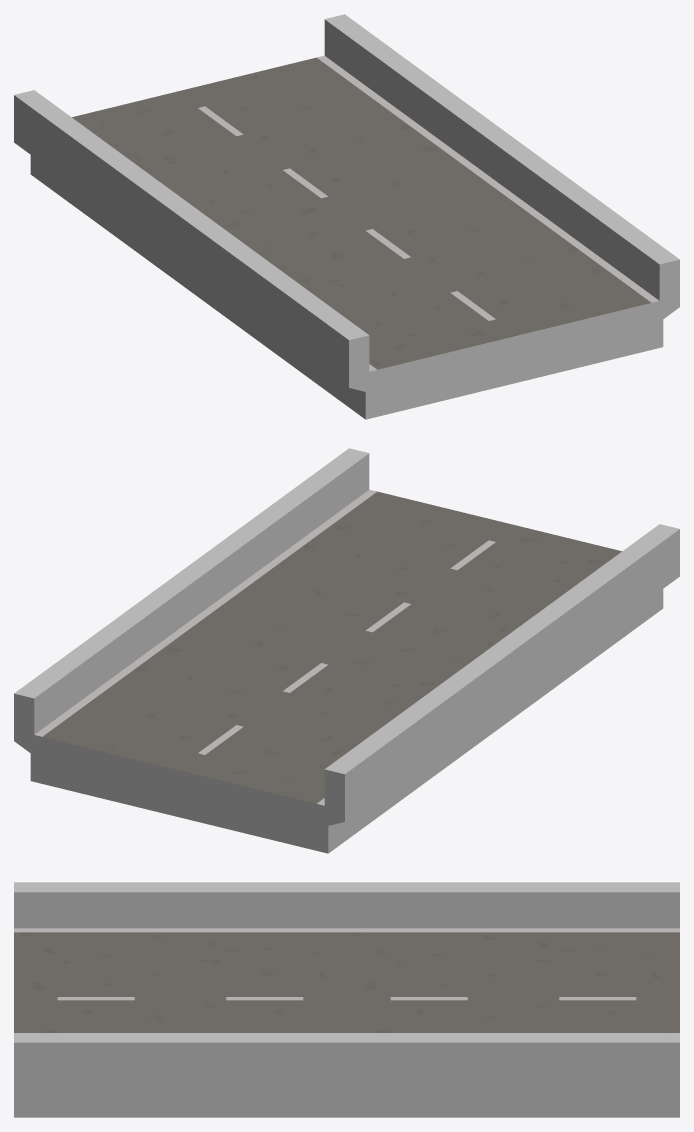
Rendered from SM_Env_Road_Highway_01.fbx.
The picture shows the model from 3 angles, top to bottom: view 1: azimuth 30°, elevation 25°; view 2: azimuth 150°, elevation 25°; view 3: azimuth 270°, elevation 25°; orthographic projection.
Parts seen in each view (by area): view 1: SM_Env_Road_Highway_01; view 2: SM_Env_Road_Highway_01; view 3: SM_Env_Road_Highway_01.
Part boxes in pixels (bbox=[...]): SM_Env_Road_Highway_01: bbox=[14, 14, 679, 419]; SM_Env_Road_Highway_01: bbox=[14, 448, 679, 853]; SM_Env_Road_Highway_01: bbox=[14, 882, 679, 1117].
Size of the model in its own units: 1140 by 275 by 2000.
